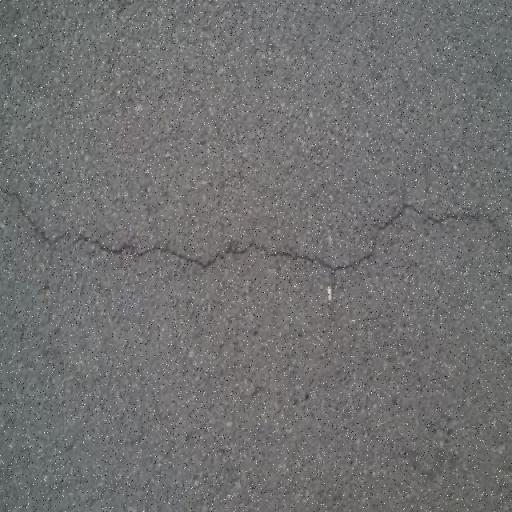severe crack: (0, 177, 512, 273)
